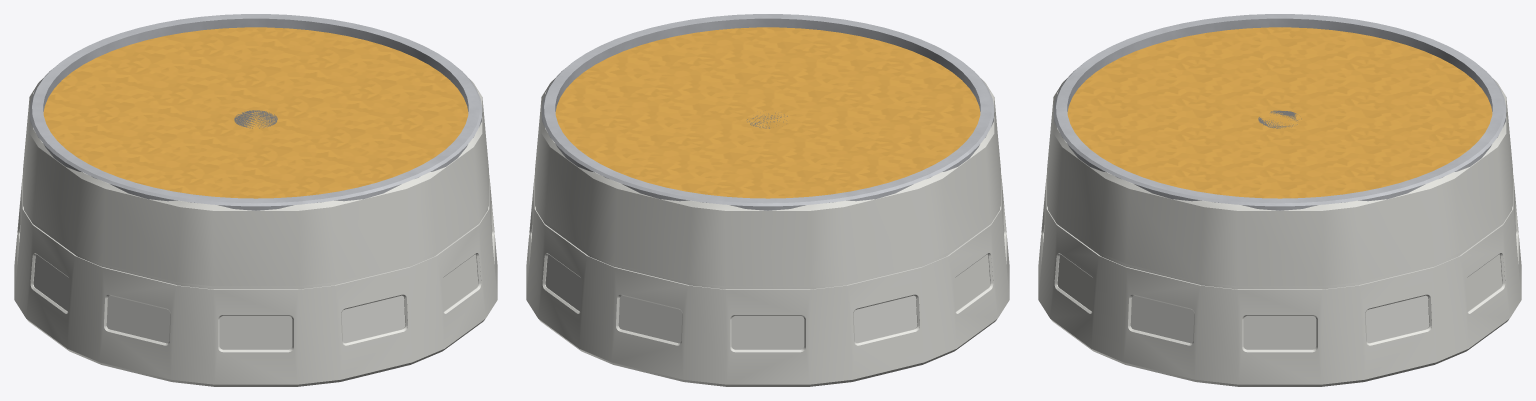
File: ax_prop_20_thrust_structure_l_x2.glb
3 renders of one model, left to right at view 1: azimuth 30°, elevation 25°; view 2: azimuth 150°, elevation 25°; view 3: azimuth 270°, elevation 25°, orthographic.
Visible parts, largest first — view 1: skirt, mli_floor, interface_ring, thrust_beams; view 2: skirt, mli_floor, interface_ring; view 3: skirt, mli_floor, interface_ring.
Boxes of the visible parts, x1,y1,x2,y2 form: skirt: (14, 78, 497, 386); mli_floor: (43, 27, 468, 198); interface_ring: (29, 14, 482, 210); thrust_beams: (234, 110, 277, 128); skirt: (526, 78, 1009, 386); mli_floor: (555, 27, 980, 198); interface_ring: (541, 14, 994, 210); skirt: (1038, 78, 1521, 386); mli_floor: (1067, 27, 1492, 198); interface_ring: (1053, 14, 1506, 210).
Bounding box in the file's own units: 4 × 1.62 × 4.
4 materials, 3 textured.
